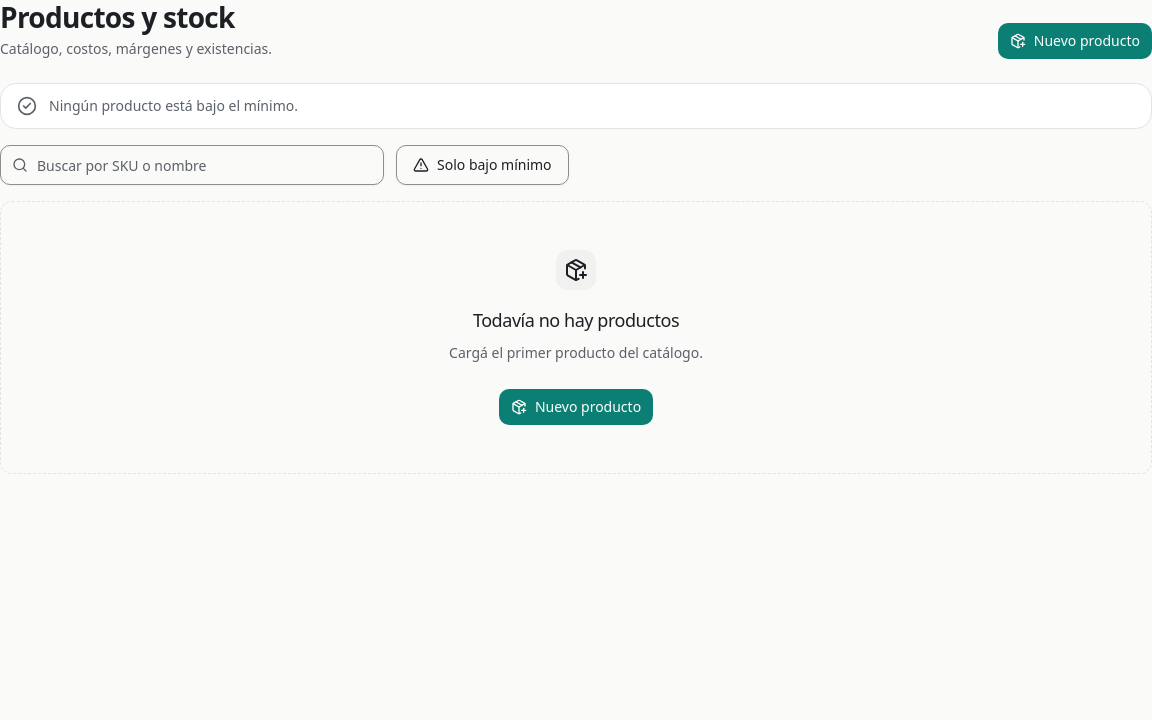
Test: ProductosPage › valida en linea antes de enviar
The image size is (1152, 720).
Click the button "Nuevo producto" in the row of "Productos y stock" at point(1075, 41), box [998,23,1151,59]
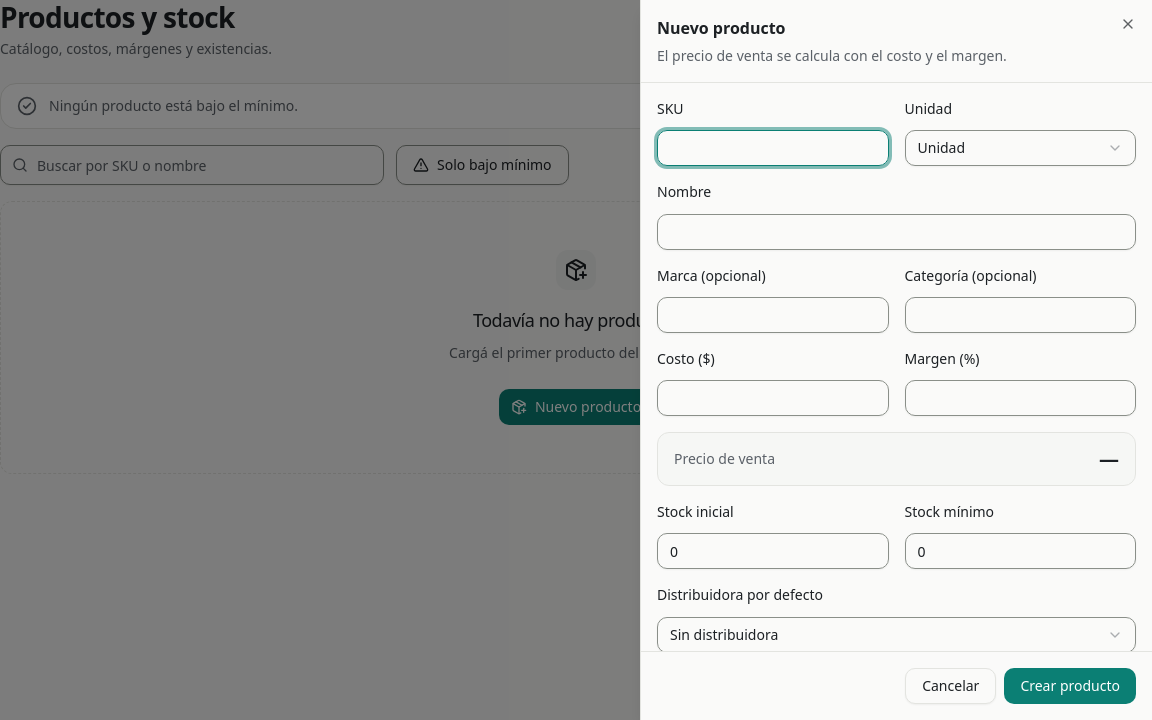
Click the button "Crear producto" at point(1070, 686), box [1004,668,1136,704]
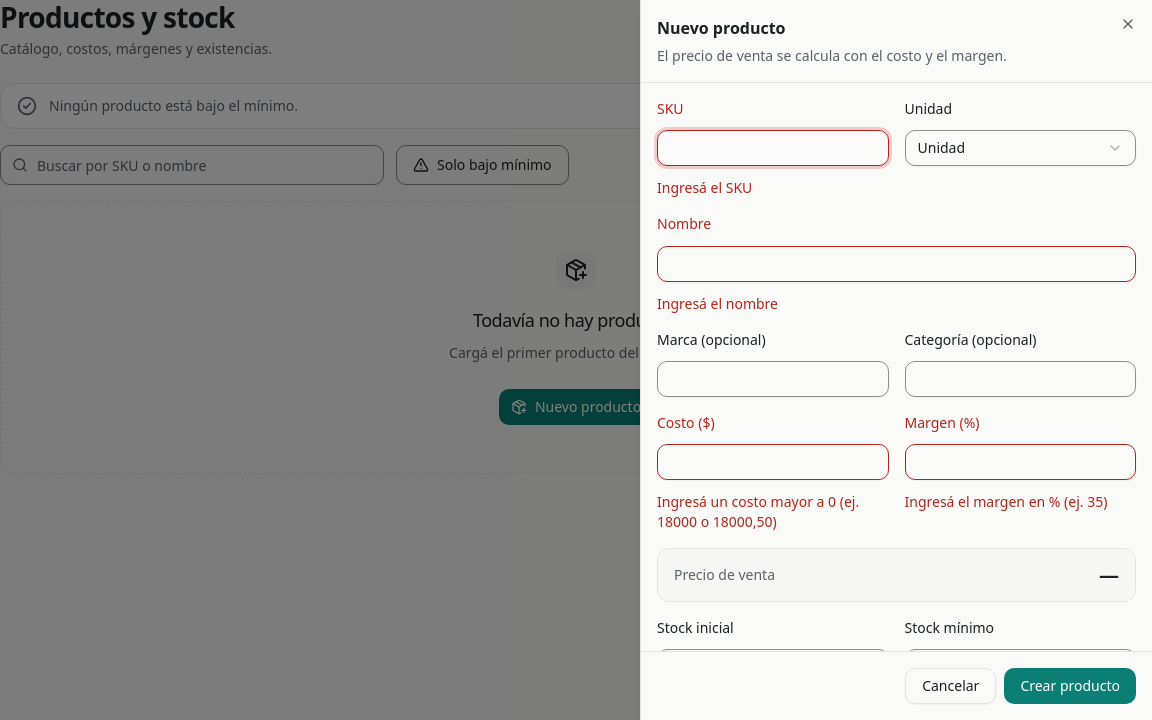
Now the text "Ingresá el SKU" is shown, box [657,178,752,197]
Now the text "Ingresá el nombre" is shown, box [657,294,778,312]
